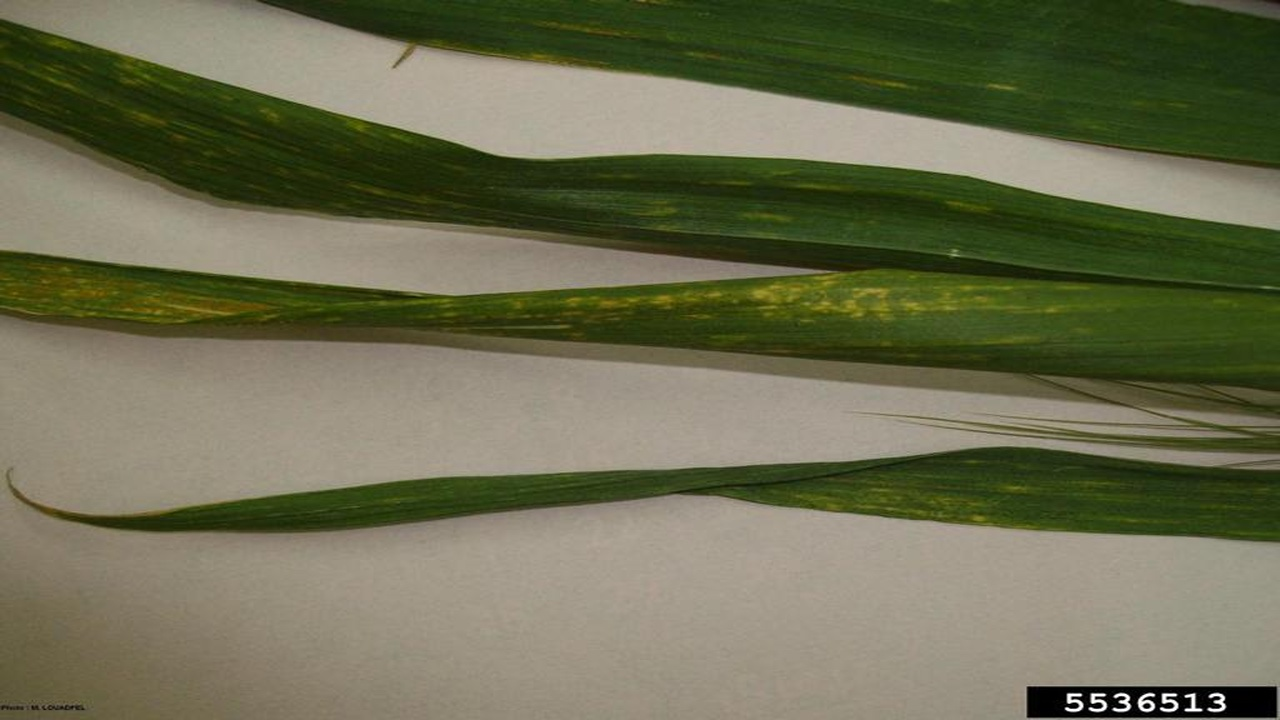stripe_rust: (1, 246, 1142, 380)
